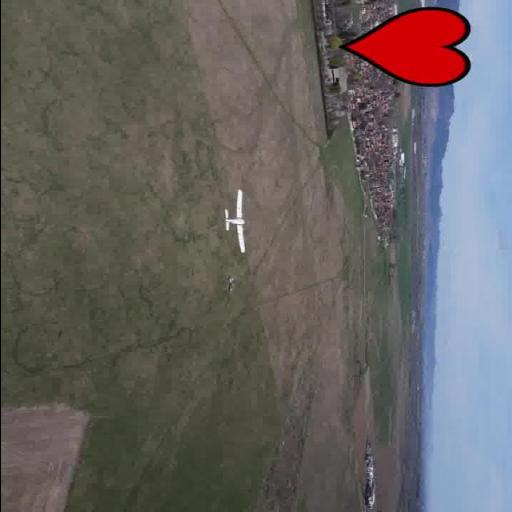uav: (212, 187, 252, 255)
